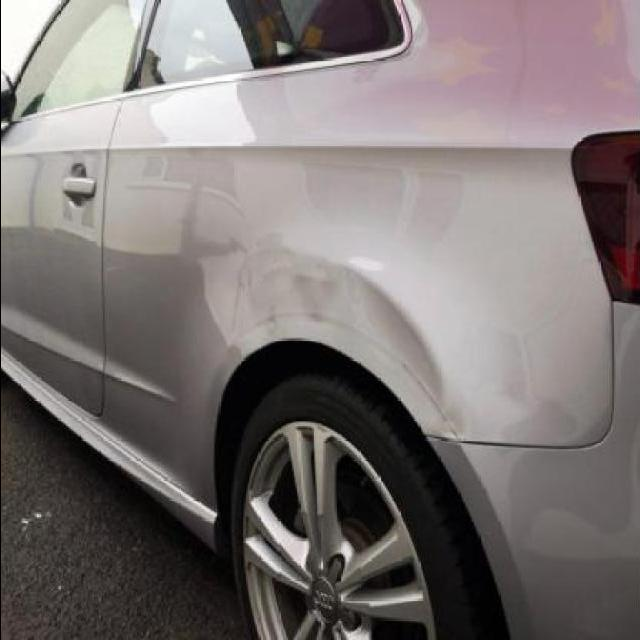quaterpanel-dent: (217, 226, 438, 446)
